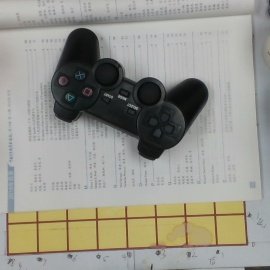remote: (52, 25, 208, 161)
